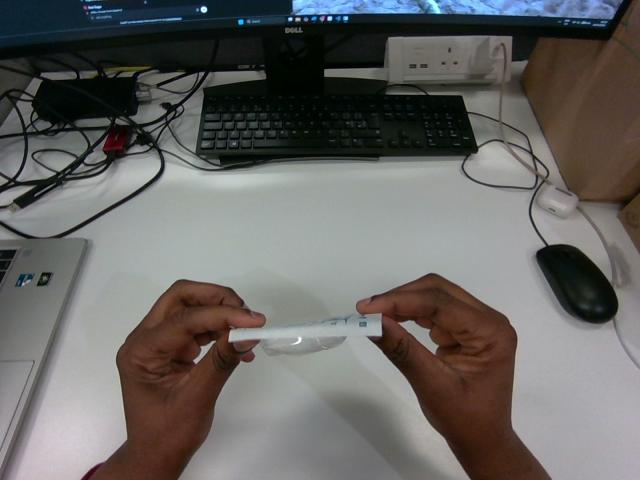gauze: (229, 313, 381, 355), (260, 337, 345, 355)
